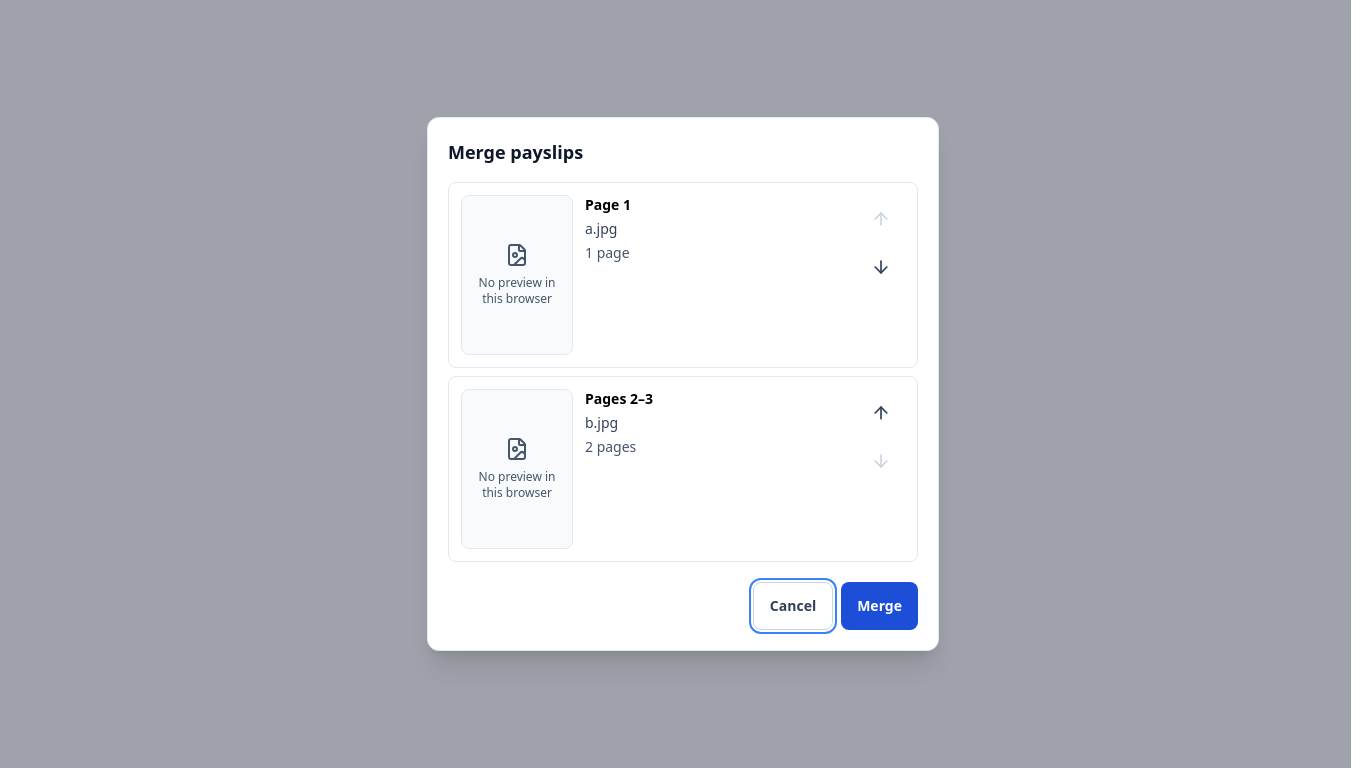
Scenario: MergeDialog (plan 11 D11, Task 15b D6) › stays open and explains a failure: {"status":422,"code":"pdf_too_many_pages"}
What coordinates should you click on to do the following:
click the button "Merge"
I would click on:
 (880, 606)
Its box is [841, 582, 918, 630].
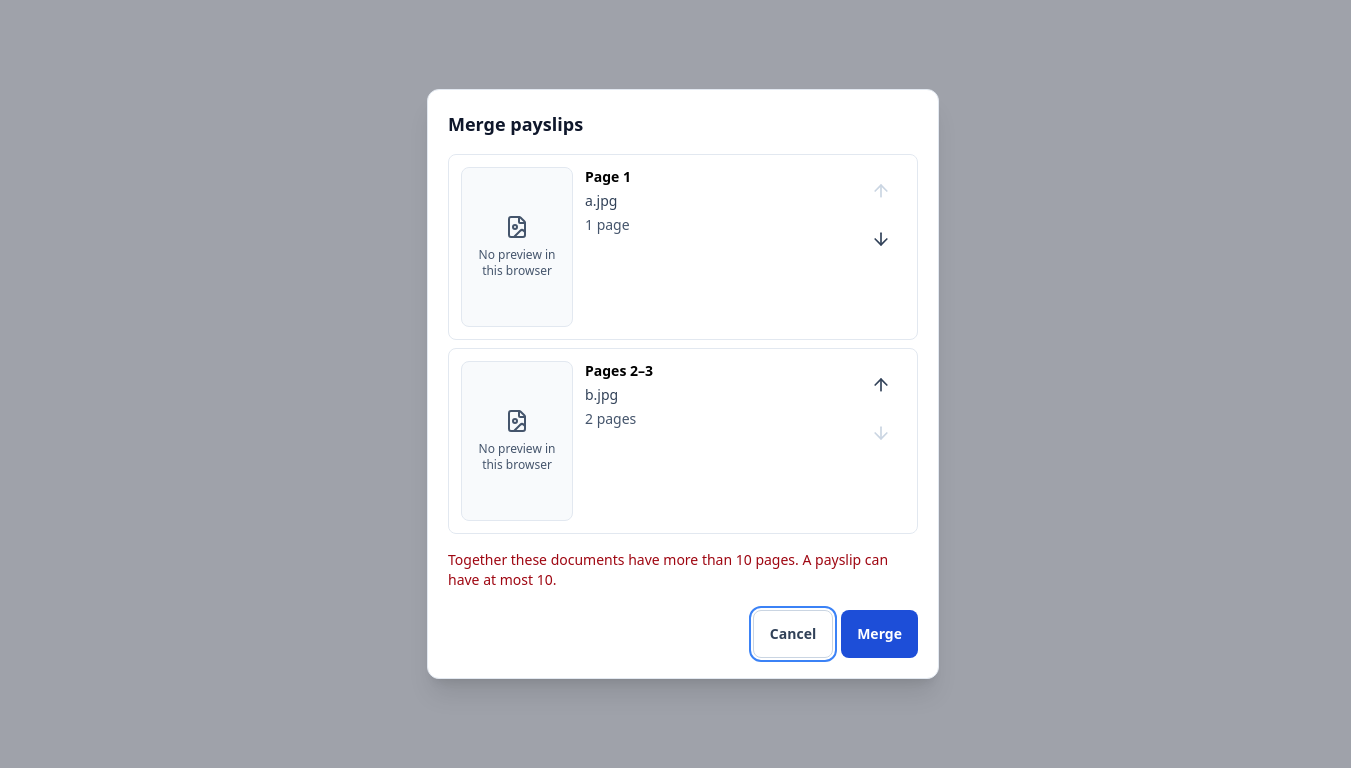
Now the message reads "Together these documents have more than 10 pages. A payslip can have at most 10.", box [448, 550, 888, 589]
